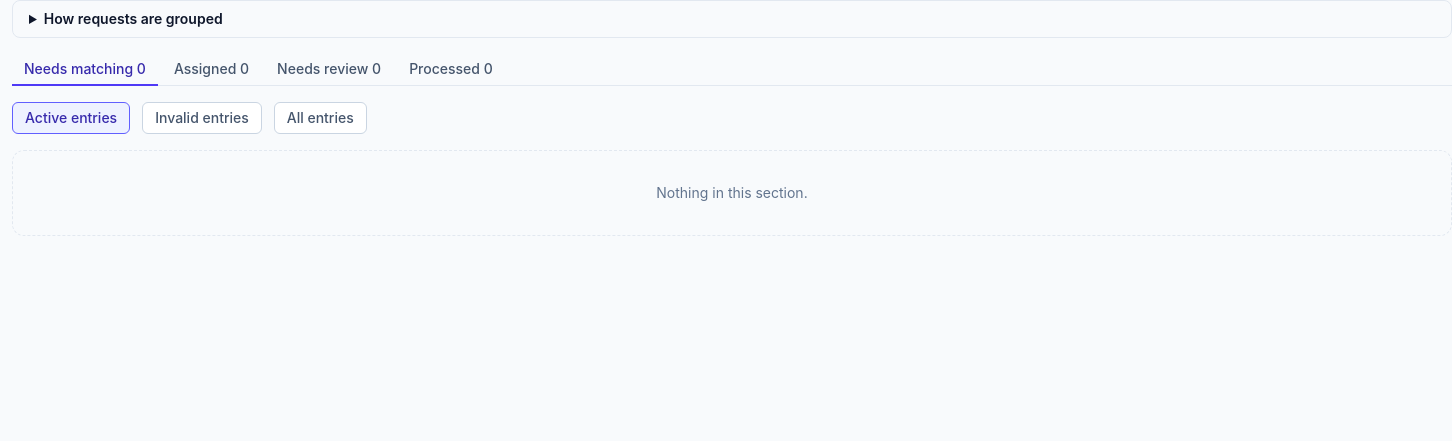
preserves independent invalid and closed request badges (verified=false)
The image size is (1452, 441).
Step 1. Click the button "Invalid entries" → [202, 118], box 142,102 -> 262,134
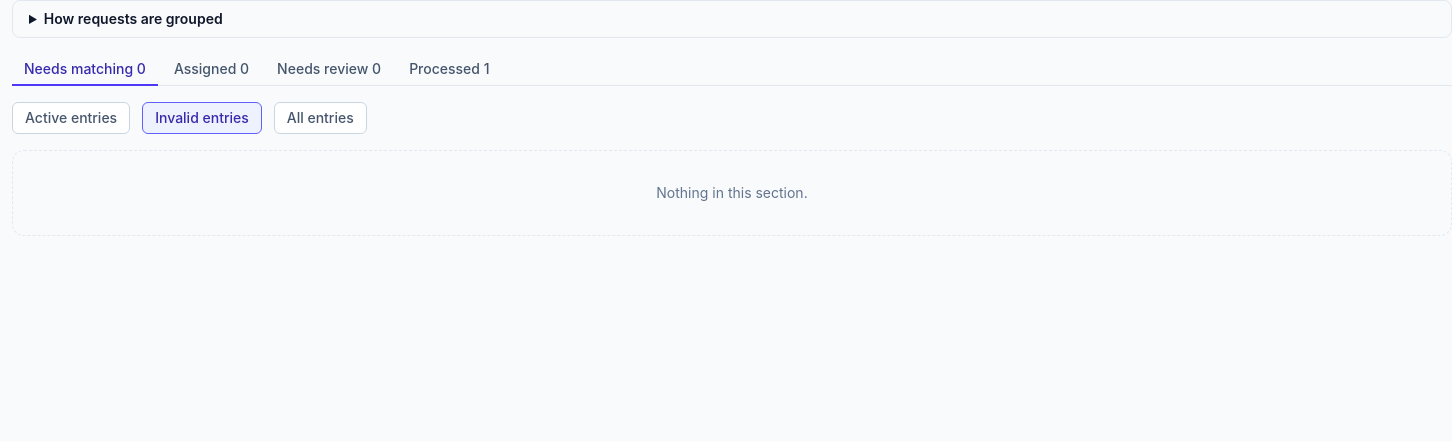
Step 2. Click the tab "Processed 1" → [449, 70], box 397,54 -> 502,86
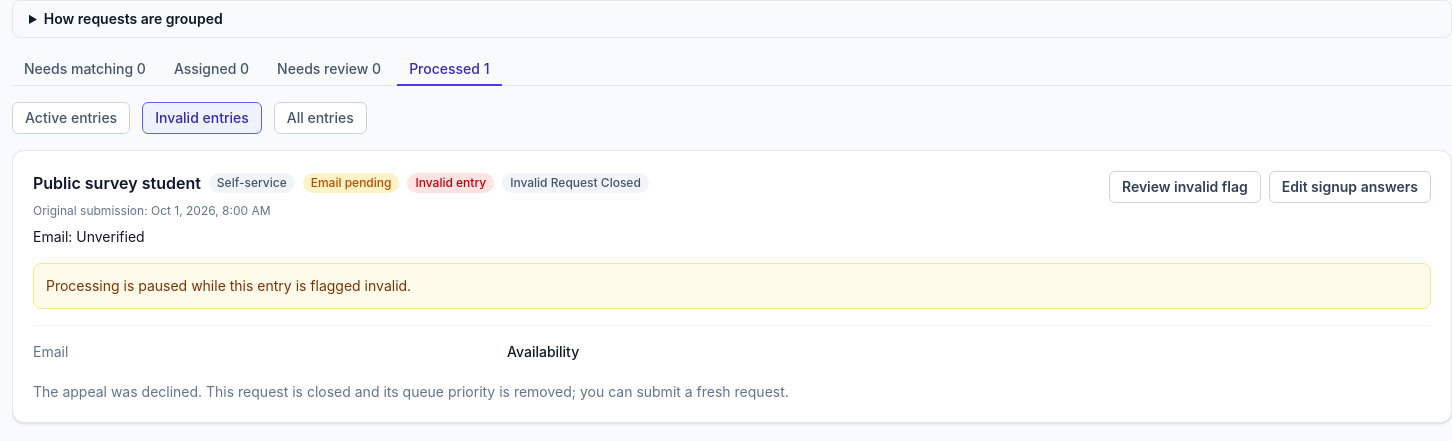
Expected: the text "Email pending" is shown, 303,173 -> 400,193
Expected: the text "Invalid entry" is shown, 408,173 -> 494,193
Expected: the text "Invalid Request Closed" is shown, 502,173 -> 649,193
